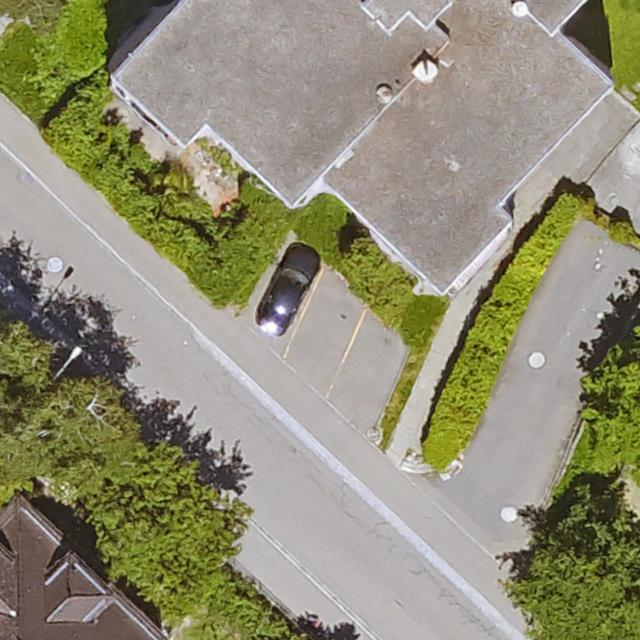tree: (97, 446, 249, 612), (521, 508, 640, 640), (46, 378, 147, 495), (0, 325, 61, 492), (580, 318, 640, 463)
